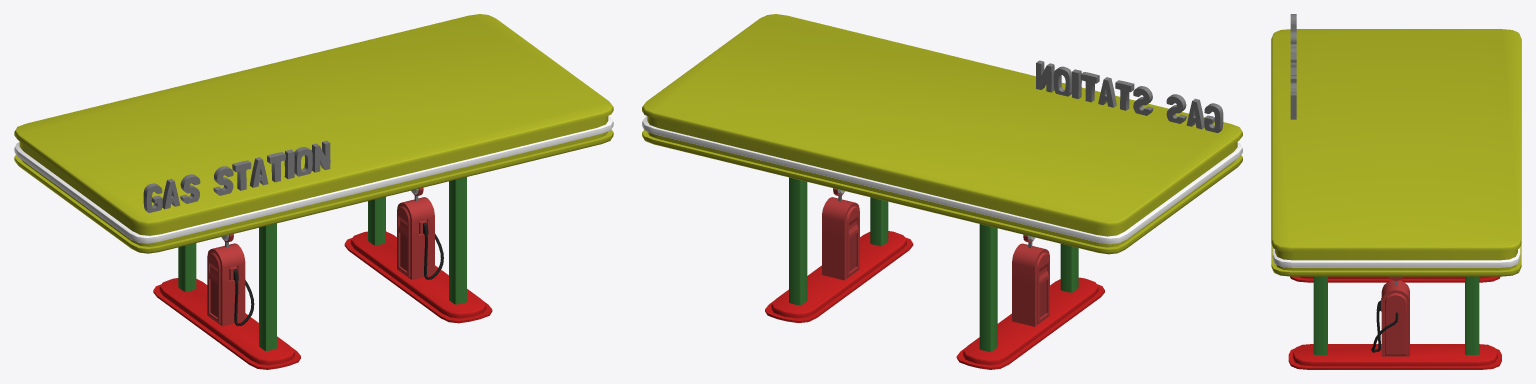
The model's file is SM_gasstation_01.fbx.
3 renders of one model, left to right at view 1: azimuth 30°, elevation 25°; view 2: azimuth 150°, elevation 25°; view 3: azimuth 270°, elevation 25°, orthographic. The views are drawn at different scales.
Parts seen in each view (by area): view 1: Box215; view 2: Box215; view 3: Box215.
Part boxes in pixels (x1,y1,x2,y2): Box215: (14,14,613,369); Box215: (642,14,1242,369); Box215: (1271,14,1521,369).
Size of the model in its own units: 490 by 207 by 236.
